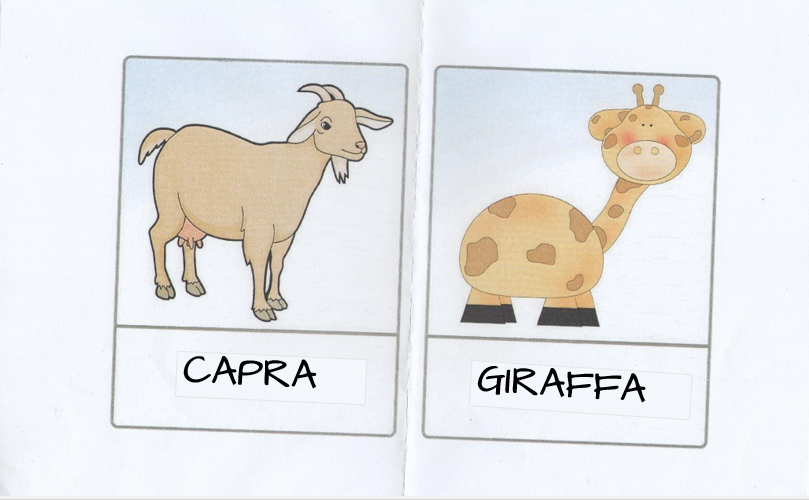capra: (129, 65, 393, 415)
giraffa: (436, 66, 713, 438)
